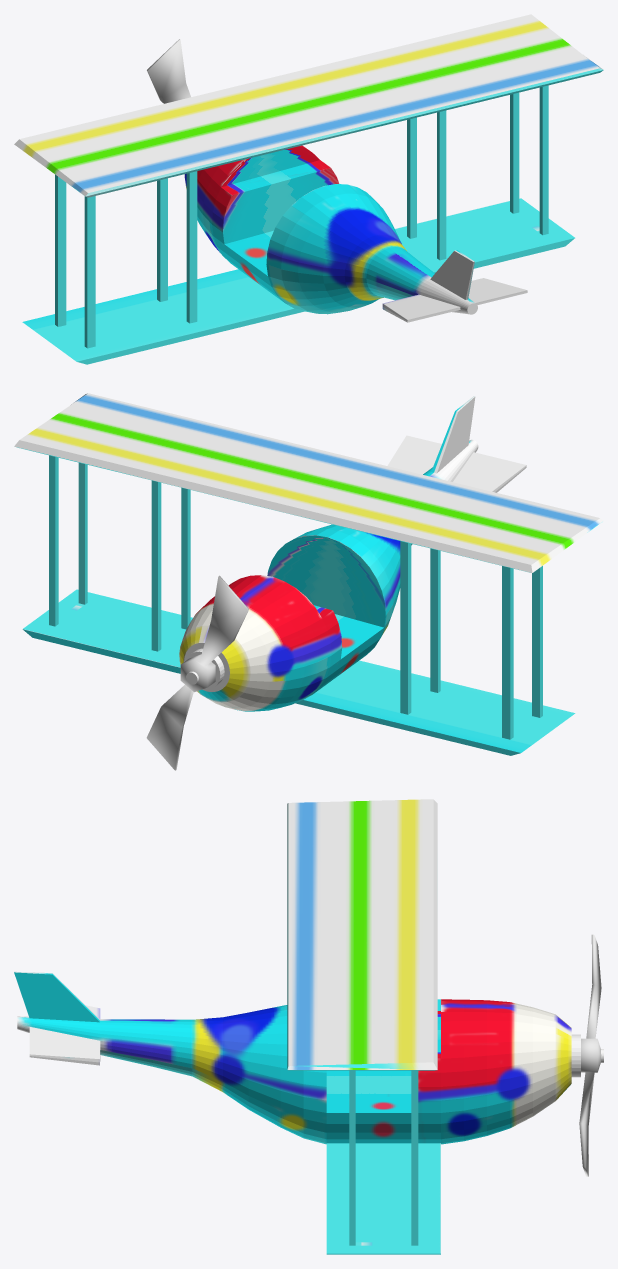
The model's file is Aircraft 1.fbx.
3 views of the same model, one above another, from view 1: azimuth 30°, elevation 25°; view 2: azimuth 150°, elevation 25°; view 3: azimuth 270°, elevation 25° (orthographic). The views are drawn at different scales.
Visible parts, largest first — view 1: Aircraft, Sphere; view 2: Aircraft, Sphere; view 3: Aircraft, Sphere.
Boxes of the visible parts, x1,y1,x2,y2 form: Aircraft: [14, 14, 603, 364]; Sphere: [147, 39, 190, 103]; Aircraft: [14, 393, 603, 755]; Sphere: [146, 575, 248, 770]; Aircraft: [14, 799, 603, 1254]; Sphere: [579, 934, 601, 1176].
Size of the model in its own units: 869 by 353 by 813.
